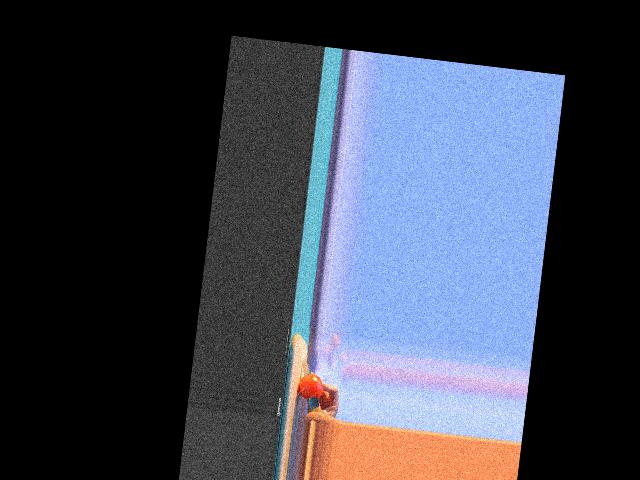tomato: (297, 372, 324, 400)
